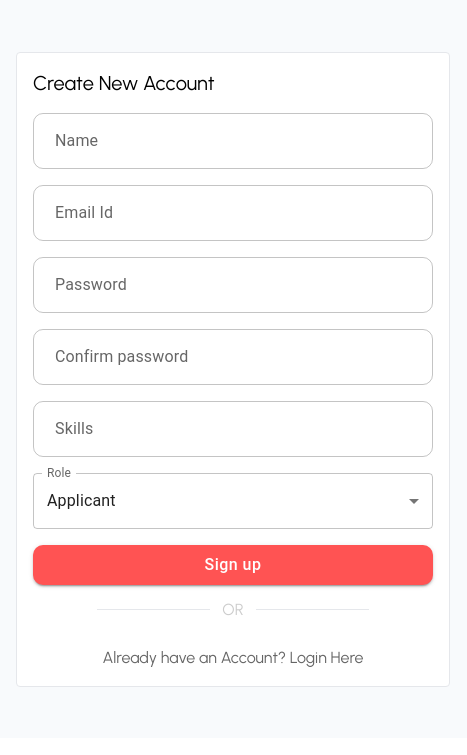
Test: RegistrationPage › shows error when name is empty
Step 1. Click the button "Sign up" → {"x": 233, "y": 564}, box left=33, top=544, right=433, bottom=584
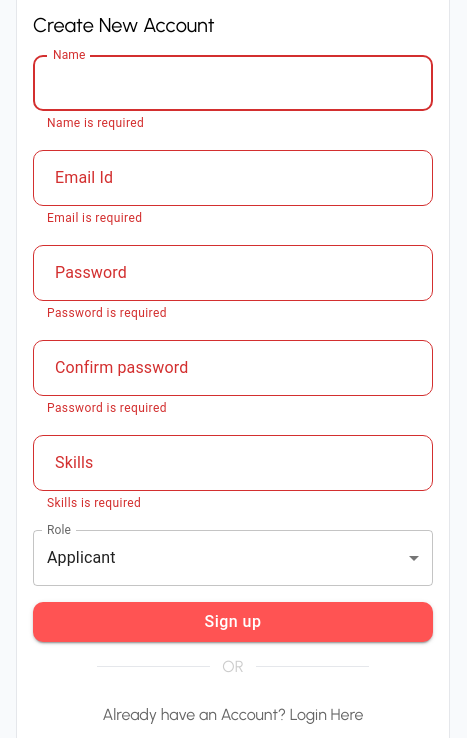
Expected: the text "Name is required" is shown, left=47, top=116, right=144, bottom=130
